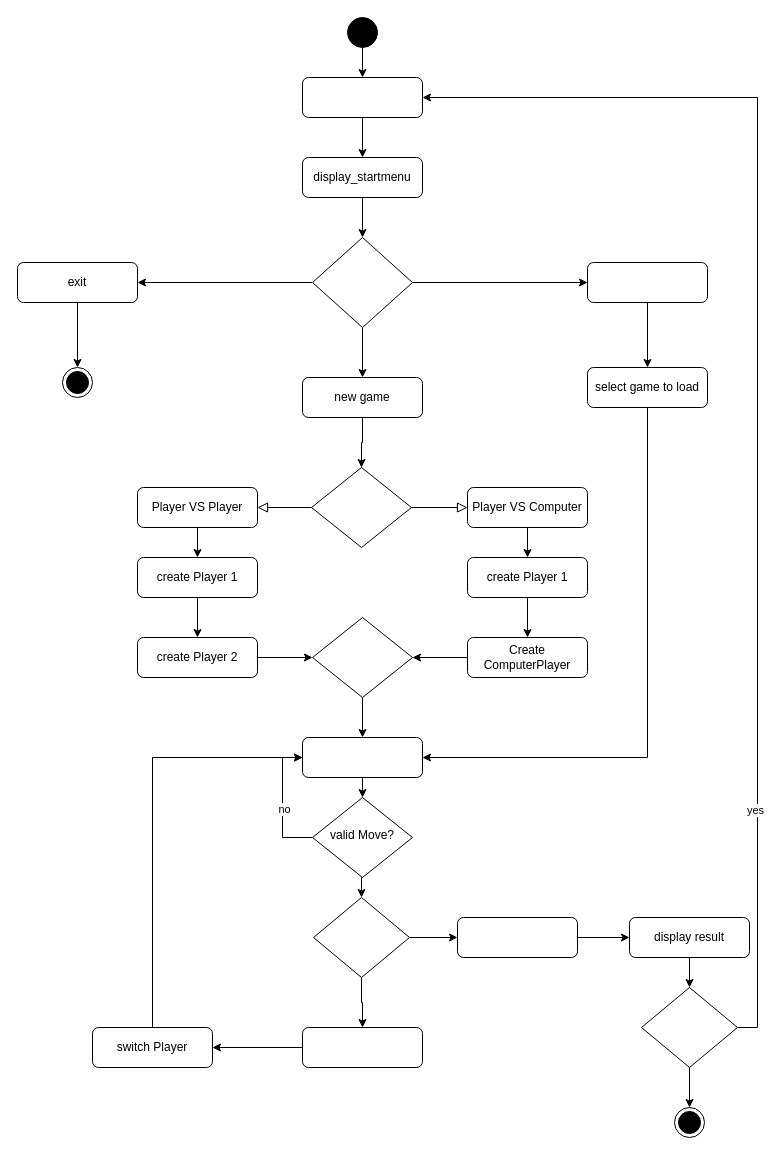
Image size: 783x1155. Some labels were removed from this diagram. The box of each missing label's shape, as (x1, y1, x2, y2) in pixels:
board full?: (312, 896, 410, 978)
check win or draw: (456, 916, 578, 958)
display_startscreen: (302, 76, 422, 118)
load game: (586, 262, 708, 302)
Player make move: (302, 736, 422, 778)
return to title?: (640, 986, 738, 1068)
update Board: (302, 1026, 422, 1068)
